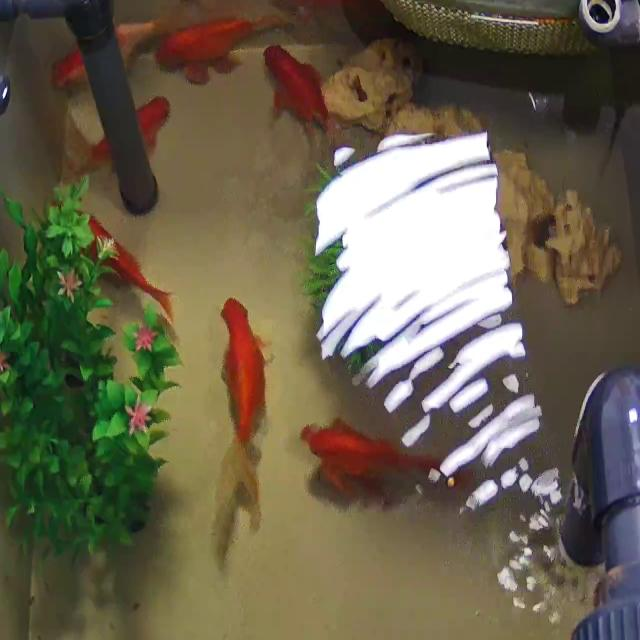fish: (210, 282, 274, 542), (294, 412, 457, 483), (83, 219, 176, 319), (66, 119, 176, 198), (51, 24, 168, 94), (156, 19, 279, 79), (269, 40, 339, 138), (270, 0, 391, 13)
